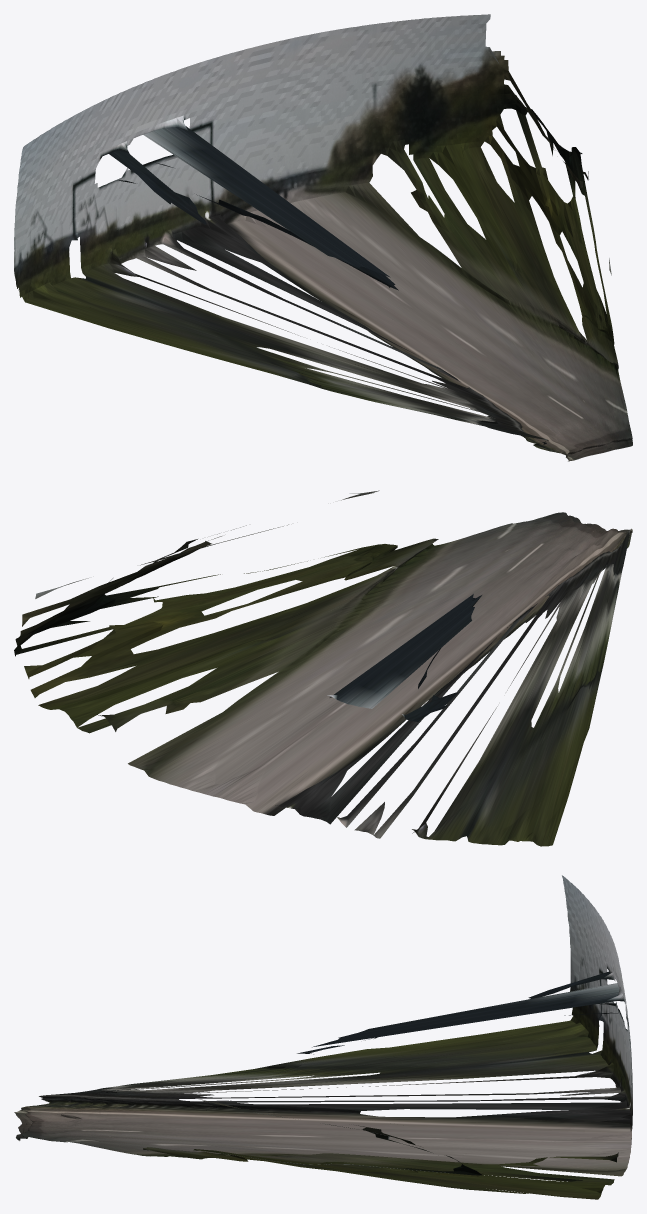
The picture shows the model from 3 angles, top to bottom: view 1: azimuth 30°, elevation 25°; view 2: azimuth 150°, elevation 25°; view 3: azimuth 270°, elevation 25°; orthographic projection. The views are drawn at different scales.
Parts seen in each view (by area): view 1: defaultobject; view 2: defaultobject; view 3: defaultobject.
Boxes of the visible parts, box(x1,y1,x2,y2) form: defaultobject: box(14, 14, 632, 461); defaultobject: box(14, 490, 632, 846); defaultobject: box(14, 875, 632, 1199).
Bounding box in the file's own units: 38.34 × 12.78 × 44.75.
Materials: 1 (1 with a texture image).
